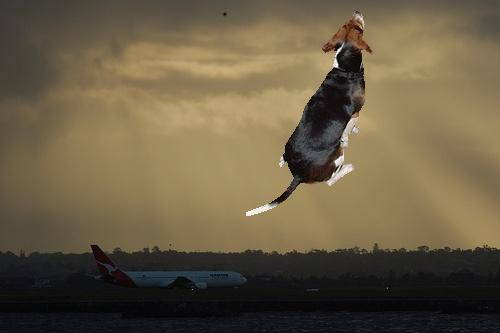tampered: (246, 12, 373, 216)
